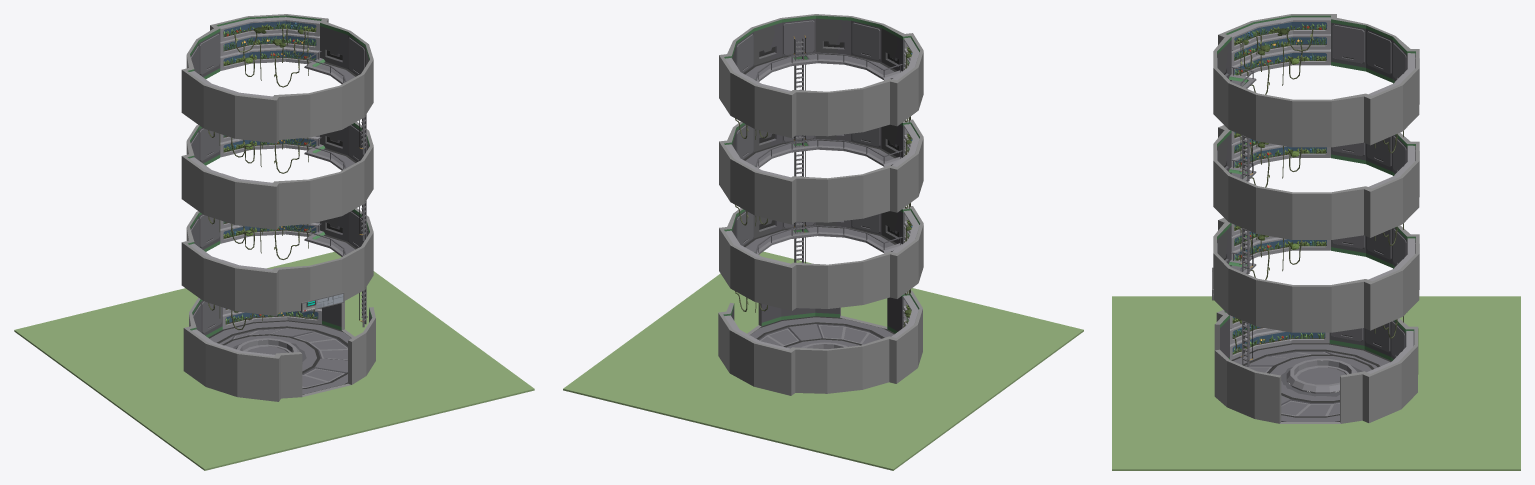
The model's file is hydroponic-tower.glb.
3 views of the same model, side by side, from view 1: azimuth 30°, elevation 25°; view 2: azimuth 150°, elevation 25°; view 3: azimuth 270°, elevation 25° (orthographic). The views are drawn at different scales.
Visible parts, largest first — view 1: Ground, UpperFloor_3, BaseFloor, UpperFloor_2, UpperFloor_1; view 2: Ground, UpperFloor_3, BaseFloor, UpperFloor_2, UpperFloor_1; view 3: Ground, UpperFloor_3, BaseFloor, UpperFloor_2, UpperFloor_1.
Part boxes in pixels (bbox=[...]): Ground: bbox=[14, 252, 534, 470]; UpperFloor_3: bbox=[181, 14, 373, 157]; BaseFloor: bbox=[183, 297, 375, 401]; UpperFloor_2: bbox=[181, 122, 373, 243]; UpperFloor_1: bbox=[181, 208, 373, 329]; Ground: bbox=[563, 251, 1083, 470]; UpperFloor_3: bbox=[719, 14, 923, 139]; BaseFloor: bbox=[718, 290, 922, 395]; UpperFloor_2: bbox=[719, 119, 923, 226]; UpperFloor_1: bbox=[719, 206, 923, 312]; Ground: bbox=[1112, 296, 1520, 470]; UpperFloor_3: bbox=[1213, 14, 1419, 181]; BaseFloor: bbox=[1214, 310, 1418, 423]; UpperFloor_2: bbox=[1213, 125, 1419, 274]; UpperFloor_1: bbox=[1213, 218, 1419, 366].
Bounding box in the file's own units: 32 × 28.23 × 32.
2 materials, 1 textured.
